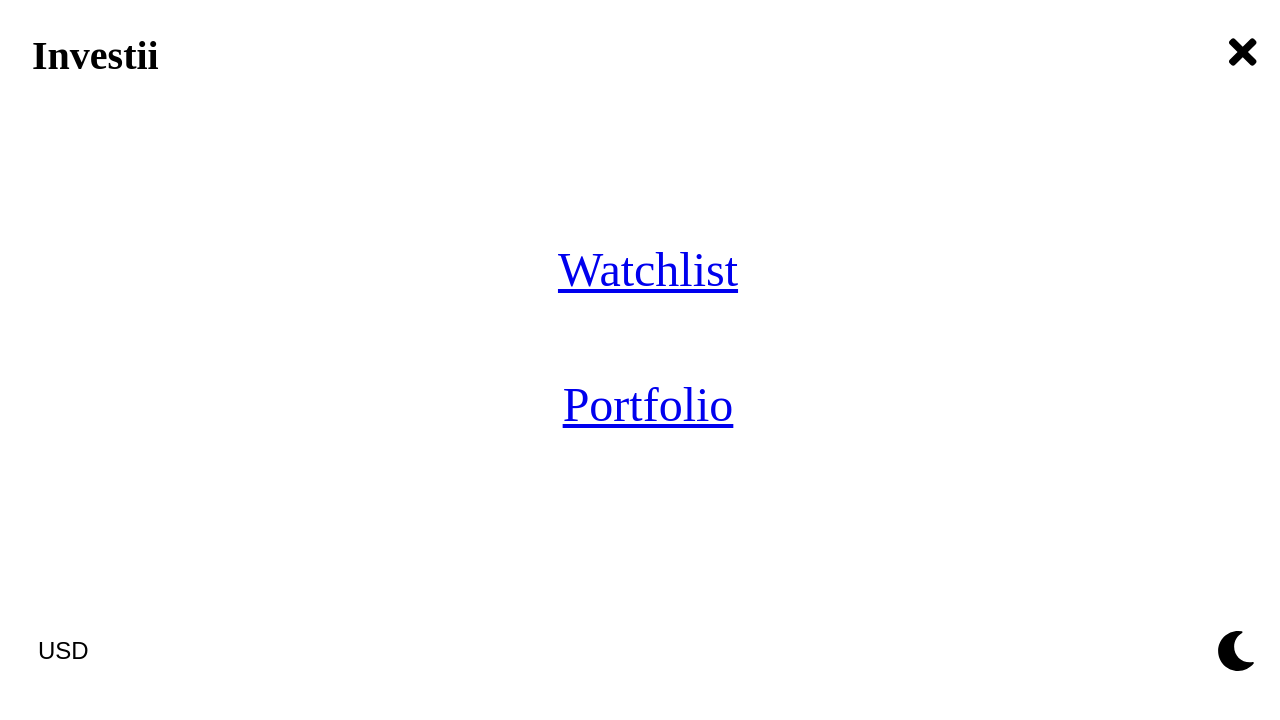
Test: opens currency switch modal
The image size is (1280, 720).
Click the button with class "change-currency". click: (63, 651)
box: x1=32 y1=636 x2=95 y2=666
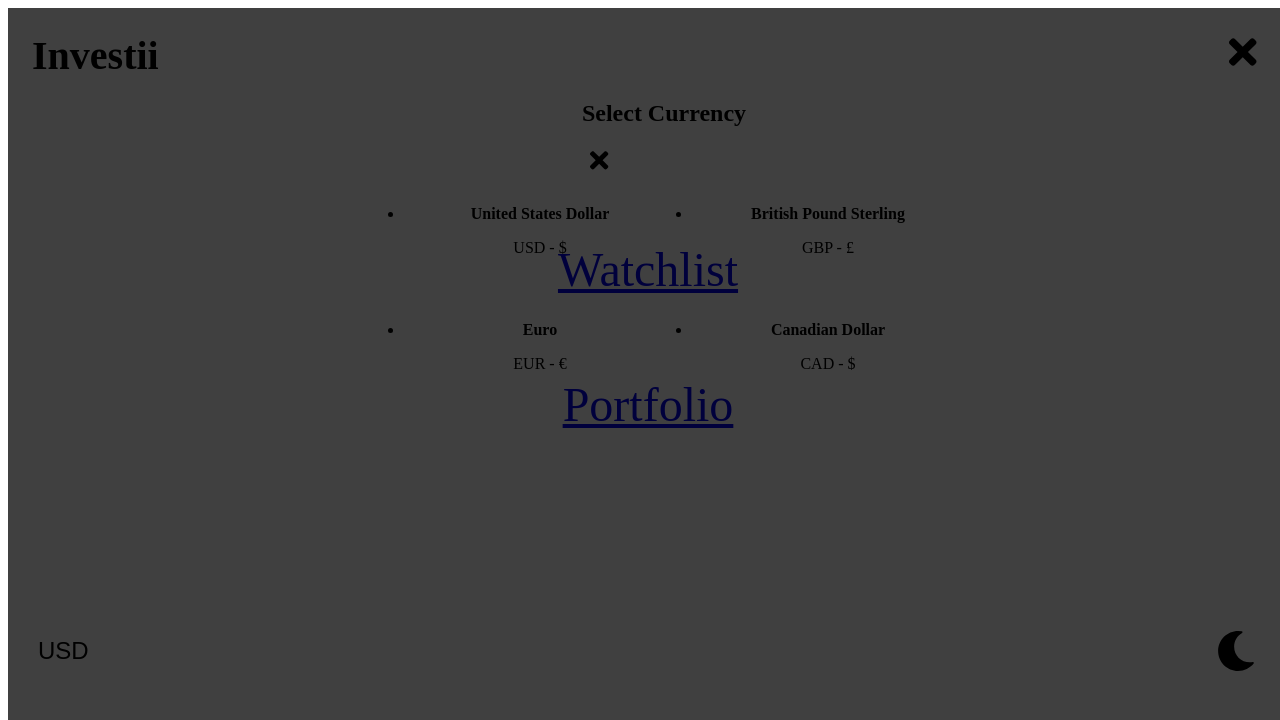
Expected: the element with test id "currency-list" is shown, x1=471 y1=100 x2=905 y2=372
